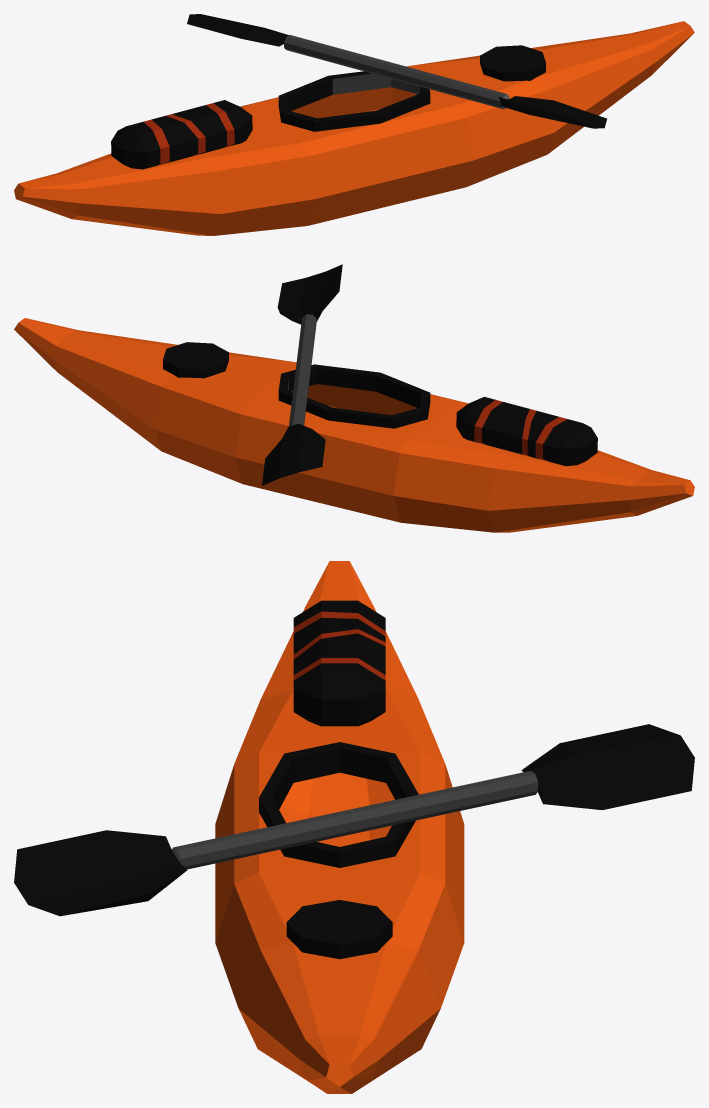
File: NewKayak.FBX
3 renders of one model, top to bottom at view 1: azimuth 30°, elevation 25°; view 2: azimuth 150°, elevation 25°; view 3: azimuth 270°, elevation 25°, orthographic. The views are drawn at different scales.
Parts seen in each view (by area): view 1: PUSHILIN_Kayak_Circle_003; view 2: PUSHILIN_Kayak_Circle_003; view 3: PUSHILIN_Kayak_Circle_003.
Part boxes in pixels (x1=…): PUSHILIN_Kayak_Circle_003: x1=14, y1=14, x2=694, y2=235; PUSHILIN_Kayak_Circle_003: x1=14, y1=264, x2=694, y2=532; PUSHILIN_Kayak_Circle_003: x1=14, y1=561, x2=694, y2=1093.
Bounding box in the file's own units: 3.94 × 2.22 × 0.7054.
Materials: 5 (1 with a texture image).
